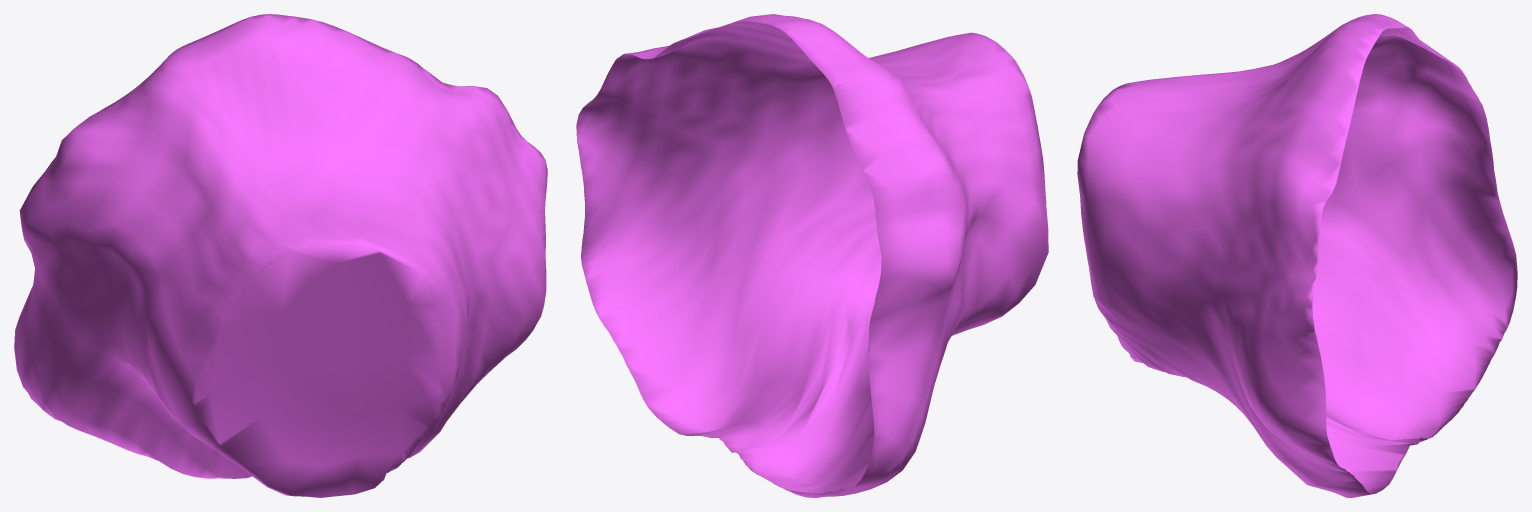
Rendered from Caries_3_OC.glb.
The picture shows the model from 3 angles, left to right: view 1: azimuth 30°, elevation 25°; view 2: azimuth 150°, elevation 25°; view 3: azimuth 270°, elevation 25°; orthographic projection. The views are drawn at different scales.
Visible parts, largest first — view 1: D3 a.001; view 2: D3 a.001; view 3: D3 a.001.
Boxes of the visible parts, <box> form: D3 a.001: <box>14,14,547,497</box>; D3 a.001: <box>576,14,1048,497</box>; D3 a.001: <box>1077,14,1517,497</box>.
Size of the model in its own units: 1.49 by 1.43 by 1.35.
